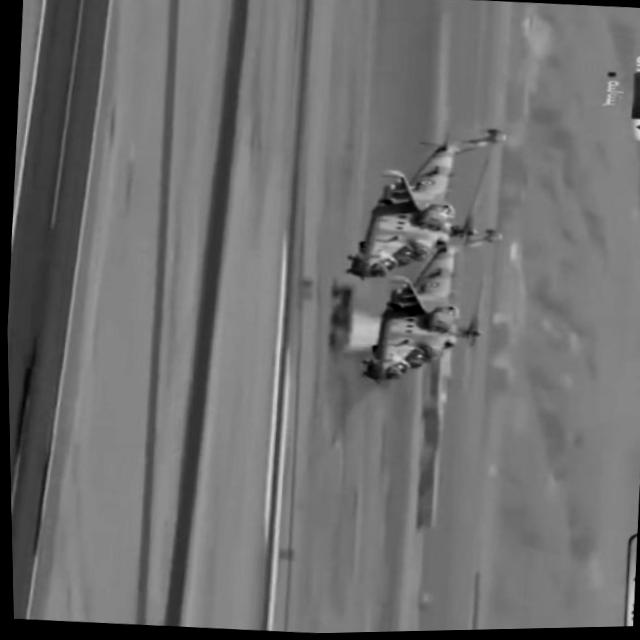helikopter: (311, 109, 513, 392)
